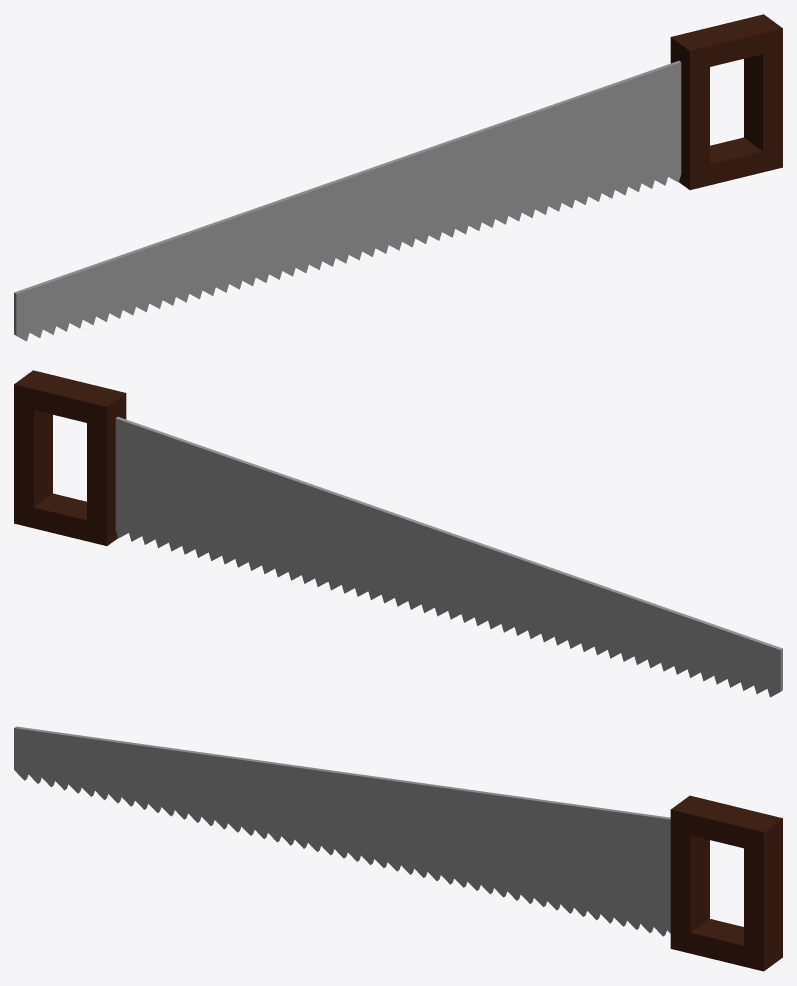
The model's file is serrote.glb.
The picture shows the model from 3 angles, top to bottom: view 1: azimuth 30°, elevation 25°; view 2: azimuth 150°, elevation 25°; view 3: azimuth 330°, elevation 25°; orthographic projection.
Parts seen in each view (by area): view 1: Serrote; view 2: Serrote; view 3: Serrote.
Boxes of the visible parts, x1=… form: Serrote: x1=14, y1=14, x2=782, y2=341; Serrote: x1=14, y1=370, x2=782, y2=697; Serrote: x1=14, y1=726, x2=782, y2=971.
Size of the model in its own units: 1.14 by 0.2 by 0.05.
